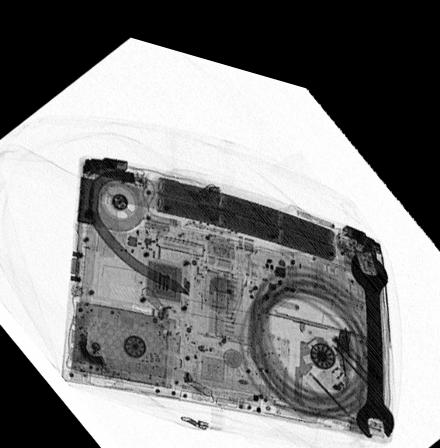Wrench: (347, 230, 394, 417)
